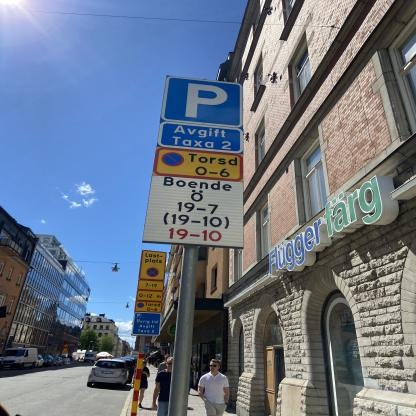P-skylt: (164, 75, 244, 128)
